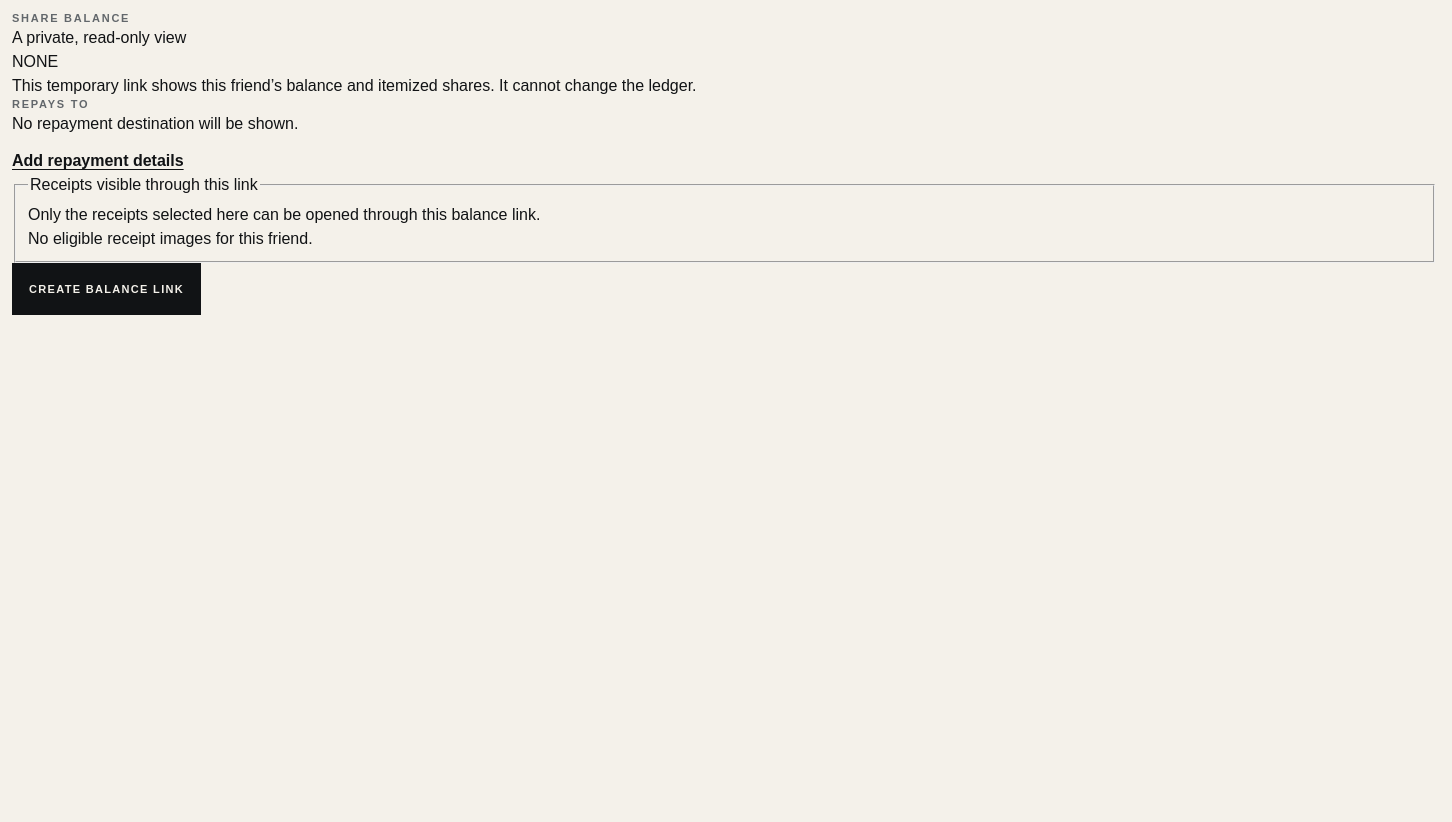
Test: FriendShareLink › reports failure when the URL fallback target is unavailable
Submit the form named "Create balance link", box [12,173,1437,315]
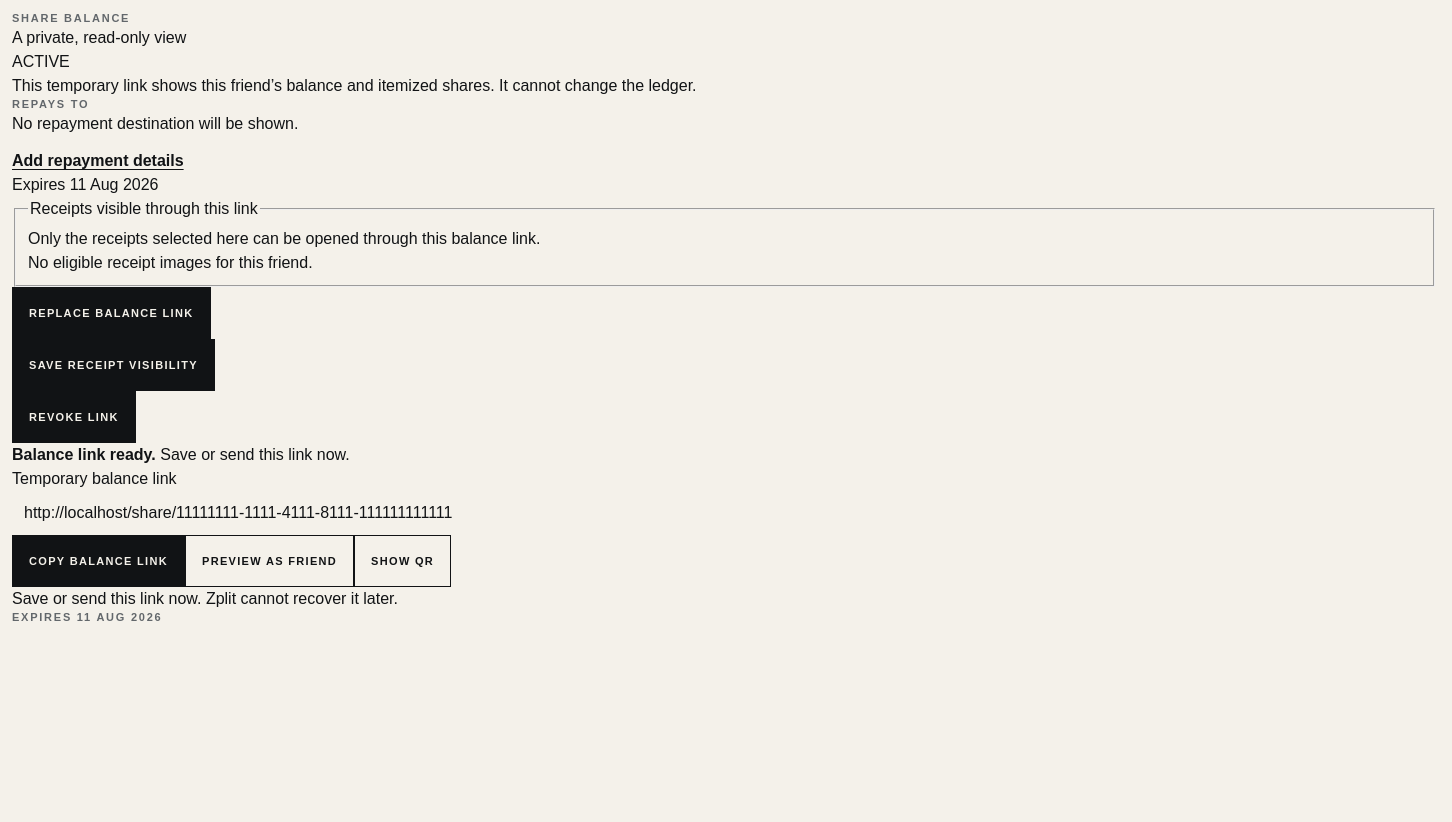
Expected: the button "Copy balance link" is shown
Click the button "Copy balance link".
click(98, 562)  # box [12,536,185,588]
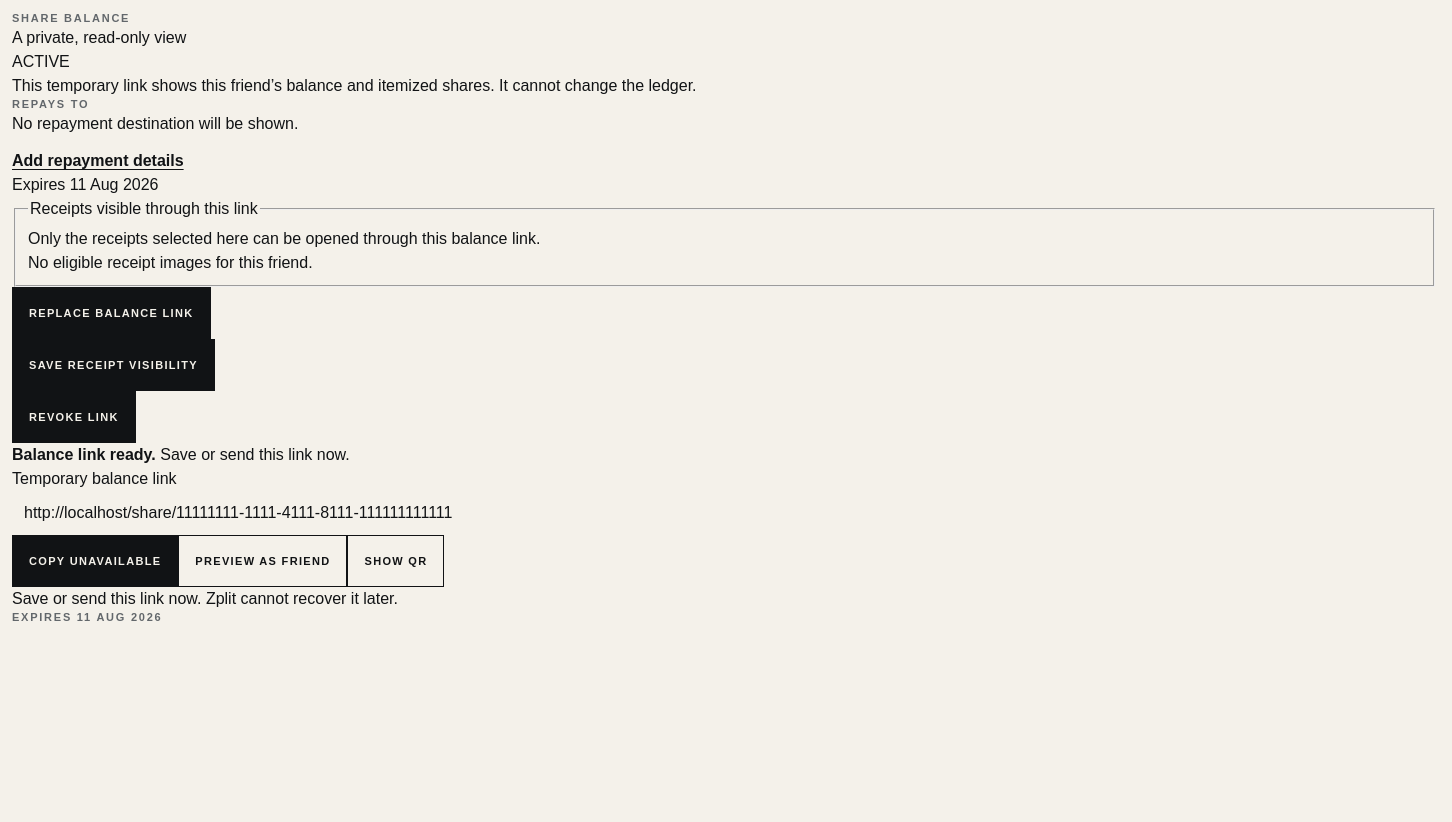
Expected: the button "Copy unavailable" is shown, [12,536,178,588]
